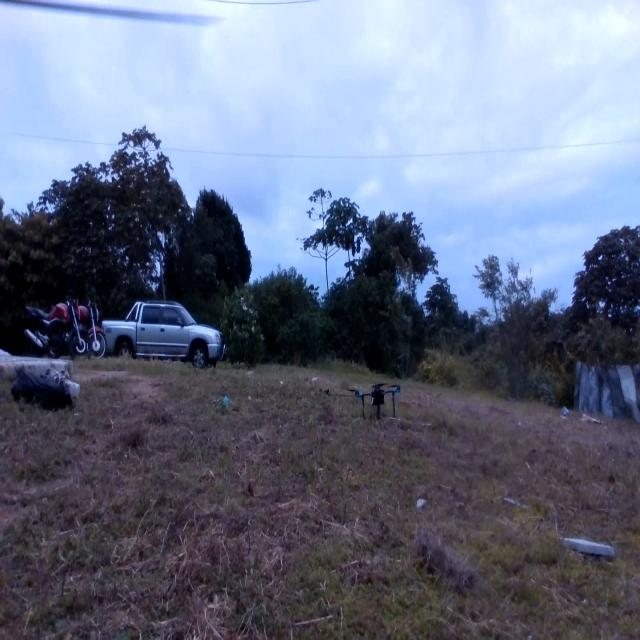-uav-: (347, 364, 406, 438)
